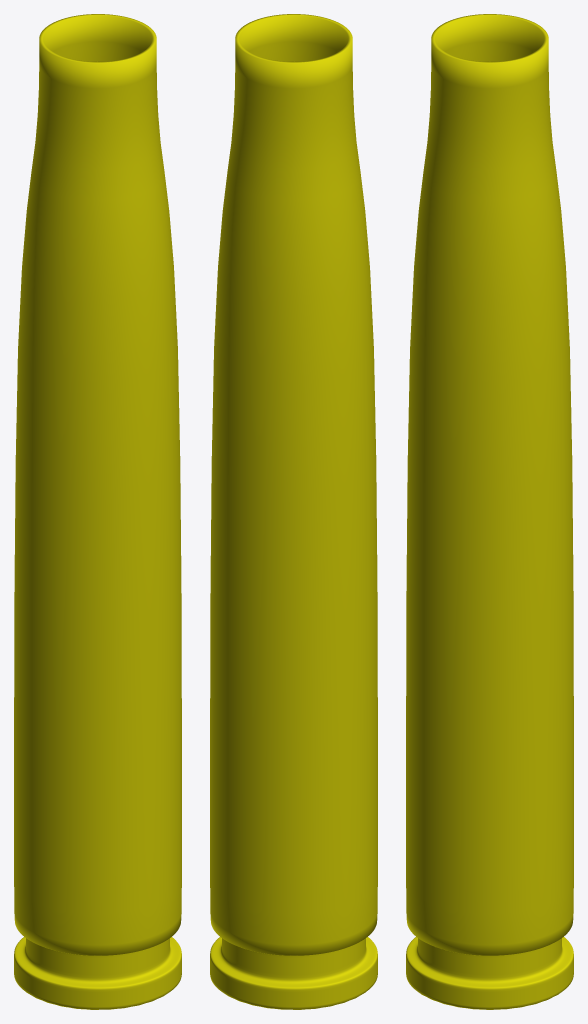
The model's file is Shell.fbx.
3 renders of one model, left to right at view 1: azimuth 30°, elevation 25°; view 2: azimuth 150°, elevation 25°; view 3: azimuth 270°, elevation 25°, orthographic.
Parts seen in each view (by area): view 1: Cylinder.001; view 2: Cylinder.001; view 3: Cylinder.001.
Boxes of the visible parts, left/top/right/bottom form: Cylinder.001: left=14, top=14, right=181, bottom=1009; Cylinder.001: left=210, top=14, right=377, bottom=1009; Cylinder.001: left=406, top=14, right=573, bottom=1009.
Size of the model in its own units: 99.4 by 613 by 99.4.
